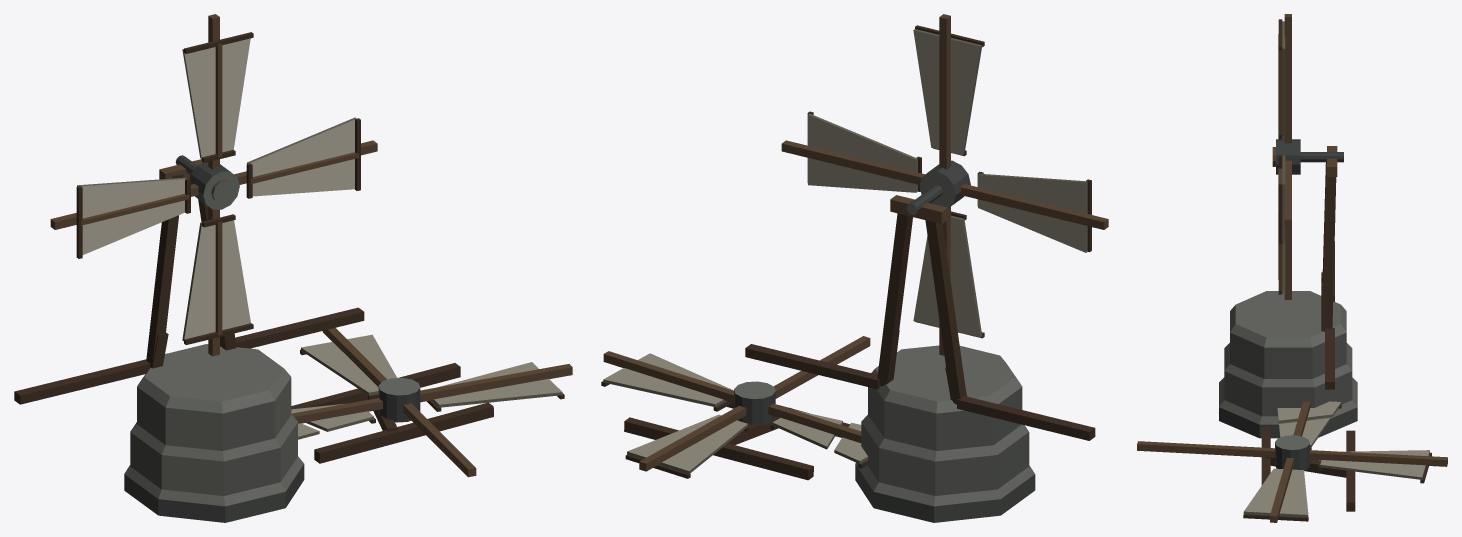
File: i03_wind_sail_machine.glb
3 renders of one model, left to right at view 1: azimuth 30°, elevation 25°; view 2: azimuth 150°, elevation 25°; view 3: azimuth 270°, elevation 25°, orthographic. The views are drawn at different scales.
Visible parts, largest first — view 1: I03_Collapsed_Stone_Plinth, I03_Damaged_Sail_04, I03_Damaged_Sail_01, I03_Intact_Sail_02, I03_Collapsed_Rotor, I03_Intact_Sail_03, I03_Collapsed_Fallen_Support_01, I03_Collapsed_Sail_04, I03_Damaged_Support_L, I03_Damaged_Sail_03_Cloth_01, I03_Collapsed_Sail_01, I03_Damaged_Sail_03_Cloth_02 (+7 smaller); view 2: I03_Collapsed_Stone_Plinth, I03_Damaged_Rotor, I03_Collapsed_Rotor, I03_Intact_Sail_02, I03_Damaged_Sail_01, I03_Damaged_Sail_04, I03_Damaged_Support_L, I03_Intact_Sail_03, I03_Damaged_Support_R, I03_Collapsed_Sail_04, I03_Damaged_Sail_03_Cloth_01, I03_Collapsed_Sail_01 (+9 smaller); view 3: I03_Collapsed_Stone_Plinth, I03_Collapsed_Rotor, I03_Collapsed_Sail_01, I03_Damaged_Rotor, I03_Collapsed_Sail_04, I03_Damaged_Support_R, I03_Collapsed_Rotor_Hub, I03_Intact_Sail_02, I03_Collapsed_Sail_03_Cloth_01, I03_Damaged_Rotor_Hub, I03_Collapsed_Sail_03_Cloth_02, I03_Collapsed_Fallen_Support_02 (+7 smaller).
Part boxes in pixels (bbox=[...]): I03_Collapsed_Stone_Plinth: bbox=[124, 344, 304, 522]; I03_Damaged_Sail_04: bbox=[182, 220, 250, 341]; I03_Damaged_Sail_01: bbox=[247, 117, 358, 196]; I03_Intact_Sail_02: bbox=[182, 38, 250, 158]; I03_Collapsed_Rotor: bbox=[291, 328, 572, 477]; I03_Intact_Sail_03: bbox=[79, 178, 188, 254]; I03_Collapsed_Fallen_Support_01: bbox=[314, 402, 493, 463]; I03_Collapsed_Sail_04: bbox=[301, 334, 396, 395]; I03_Damaged_Support_L: bbox=[146, 174, 183, 367]; I03_Damaged_Sail_03_Cloth_01: bbox=[77, 182, 131, 254]; I03_Collapsed_Sail_01: bbox=[432, 362, 562, 407]; I03_Damaged_Sail_03_Cloth_02: bbox=[119, 177, 186, 239]; I03_Collapsed_Stone_Plinth: bbox=[855, 345, 1035, 522]; I03_Damaged_Rotor: bbox=[781, 14, 1108, 355]; I03_Collapsed_Rotor: bbox=[603, 336, 870, 471]; I03_Intact_Sail_02: bbox=[913, 29, 982, 155]; I03_Damaged_Sail_01: bbox=[808, 113, 917, 192]; I03_Damaged_Sail_04: bbox=[913, 215, 982, 337]; I03_Damaged_Support_L: bbox=[925, 220, 966, 404]; I03_Intact_Sail_03: bbox=[978, 173, 1086, 251]; I03_Damaged_Support_R: bbox=[877, 213, 912, 386]; I03_Collapsed_Sail_04: bbox=[627, 414, 747, 473]; I03_Damaged_Sail_03_Cloth_01: bbox=[1033, 177, 1087, 252]; I03_Collapsed_Sail_01: bbox=[603, 353, 733, 407]; I03_Collapsed_Stone_Plinth: bbox=[1219, 291, 1357, 438]; I03_Collapsed_Rotor: bbox=[1137, 401, 1447, 522]; I03_Collapsed_Sail_01: bbox=[1243, 468, 1308, 517]; I03_Damaged_Rotor: bbox=[1284, 14, 1291, 299]; I03_Collapsed_Sail_04: bbox=[1320, 450, 1429, 479]; I03_Damaged_Support_R: bbox=[1323, 164, 1336, 328]; I03_Collapsed_Rotor_Hub: bbox=[1275, 435, 1309, 470]; I03_Intact_Sail_02: bbox=[1278, 21, 1285, 136]; I03_Collapsed_Sail_03_Cloth_01: bbox=[1277, 401, 1341, 423]; I03_Damaged_Rotor_Hub: bbox=[1272, 139, 1300, 174]; I03_Collapsed_Sail_03_Cloth_02: bbox=[1279, 418, 1329, 447]; I03_Collapsed_Fallen_Support_02: bbox=[1346, 430, 1355, 511].
Size of the model in its own units: 7.26 by 6.25 by 4.48.
